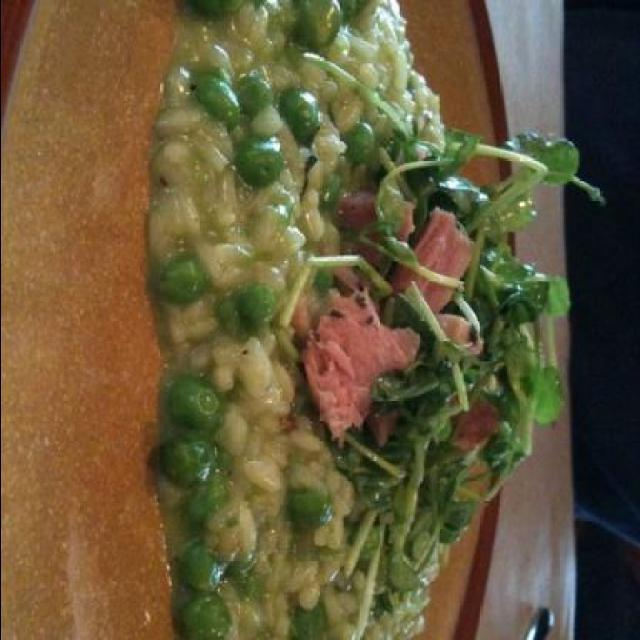Risotto: (120, 47, 517, 639)
